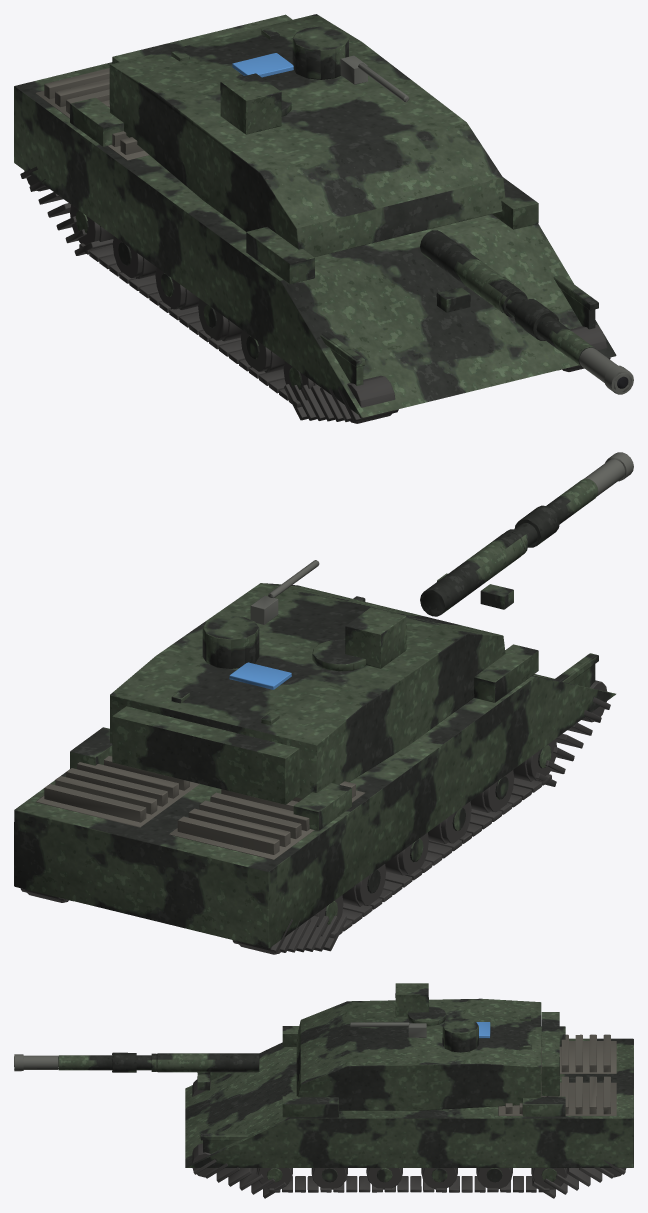
Rendered from mbt_e4_uk_challenger2_LOD1.glb.
3 renders of one model, top to bottom at view 1: azimuth 30°, elevation 25°; view 2: azimuth 150°, elevation 25°; view 3: azimuth 270°, elevation 25°, orthographic. The views are drawn at different scales.
Parts seen in each view (by area): view 1: mbt_e4_uk_challenger2_LOD1_body, mbt_e4_uk_challenger2_LOD1_track, mbt_e4_uk_challenger2_LOD1_deck, mbt_e4_uk_challenger2_LOD1_gun, mbt_e4_uk_challenger2_LOD1_team; view 2: mbt_e4_uk_challenger2_LOD1_body, mbt_e4_uk_challenger2_LOD1_deck, mbt_e4_uk_challenger2_LOD1_track, mbt_e4_uk_challenger2_LOD1_gun, mbt_e4_uk_challenger2_LOD1_team; view 3: mbt_e4_uk_challenger2_LOD1_body, mbt_e4_uk_challenger2_LOD1_track, mbt_e4_uk_challenger2_LOD1_deck, mbt_e4_uk_challenger2_LOD1_gun.
Part boxes in pixels (box(x1,y1,x2,y2)): mbt_e4_uk_challenger2_LOD1_body: box(14, 14, 616, 417); mbt_e4_uk_challenger2_LOD1_track: box(20, 166, 610, 423); mbt_e4_uk_challenger2_LOD1_deck: box(35, 68, 149, 160); mbt_e4_uk_challenger2_LOD1_gun: box(340, 55, 633, 394); mbt_e4_uk_challenger2_LOD1_team: box(232, 53, 293, 77); mbt_e4_uk_challenger2_LOD1_body: box(14, 478, 615, 948); mbt_e4_uk_challenger2_LOD1_deck: box(36, 756, 364, 859); mbt_e4_uk_challenger2_LOD1_track: box(20, 680, 610, 954); mbt_e4_uk_challenger2_LOD1_gun: box(250, 452, 633, 624); mbt_e4_uk_challenger2_LOD1_team: box(229, 662, 291, 689); mbt_e4_uk_challenger2_LOD1_body: box(58, 983, 633, 1182); mbt_e4_uk_challenger2_LOD1_track: box(192, 1079, 626, 1198); mbt_e4_uk_challenger2_LOD1_deck: box(498, 1034, 616, 1115); mbt_e4_uk_challenger2_LOD1_gun: box(14, 1022, 550, 1096).
Size of the model in its own units: 3.52 by 3.09 by 11.5.
6 materials, 1 textured.
